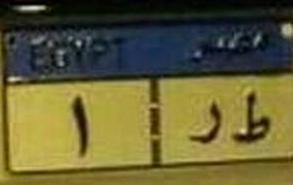1: (68, 96, 93, 155)
Taa: (231, 88, 274, 146)
raa: (189, 99, 223, 145)
